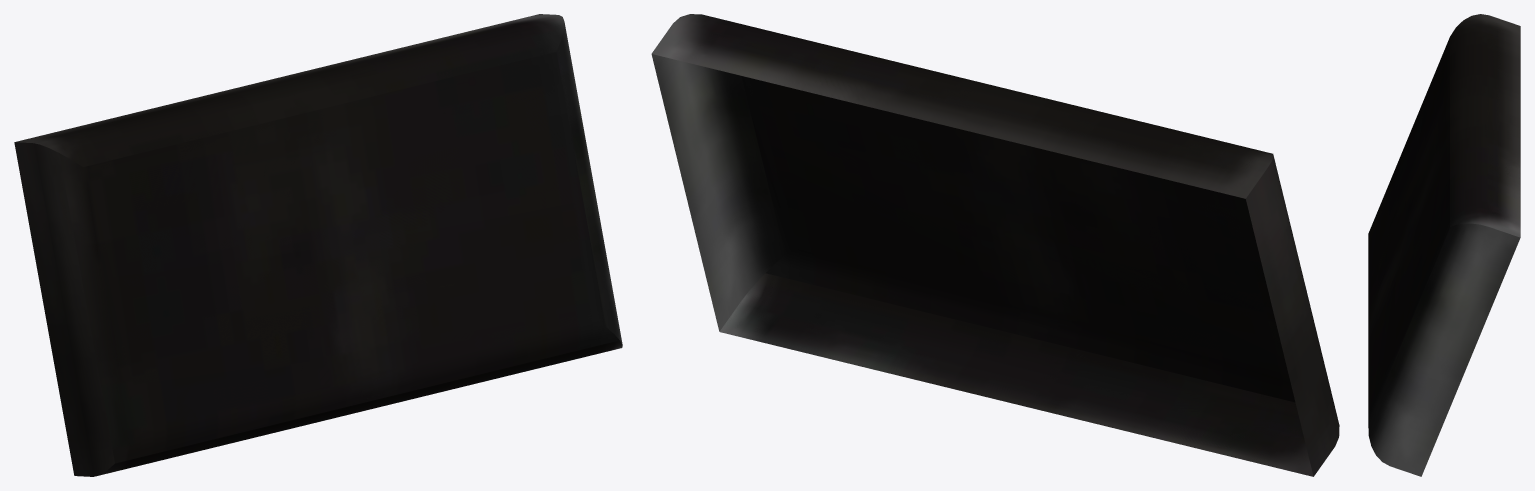
Rendered from link_2__button-3.glb.
3 views of the same model, side by side, from view 1: azimuth 30°, elevation 25°; view 2: azimuth 150°, elevation 25°; view 3: azimuth 270°, elevation 25° (orthographic). The views are drawn at different scales.
Visible parts, largest first — view 1: geometry_0; view 2: geometry_0; view 3: geometry_0.
Boxes of the visible parts, x1=… form: geometry_0: x1=14, y1=14, x2=622, y2=476; geometry_0: x1=651, y1=14, x2=1339, y2=476; geometry_0: x1=1368, y1=14, x2=1520, y2=476.
Size of the model in its own units: 0.0354 by 0.0197 by 0.0108.
1 material, 1 textured.
